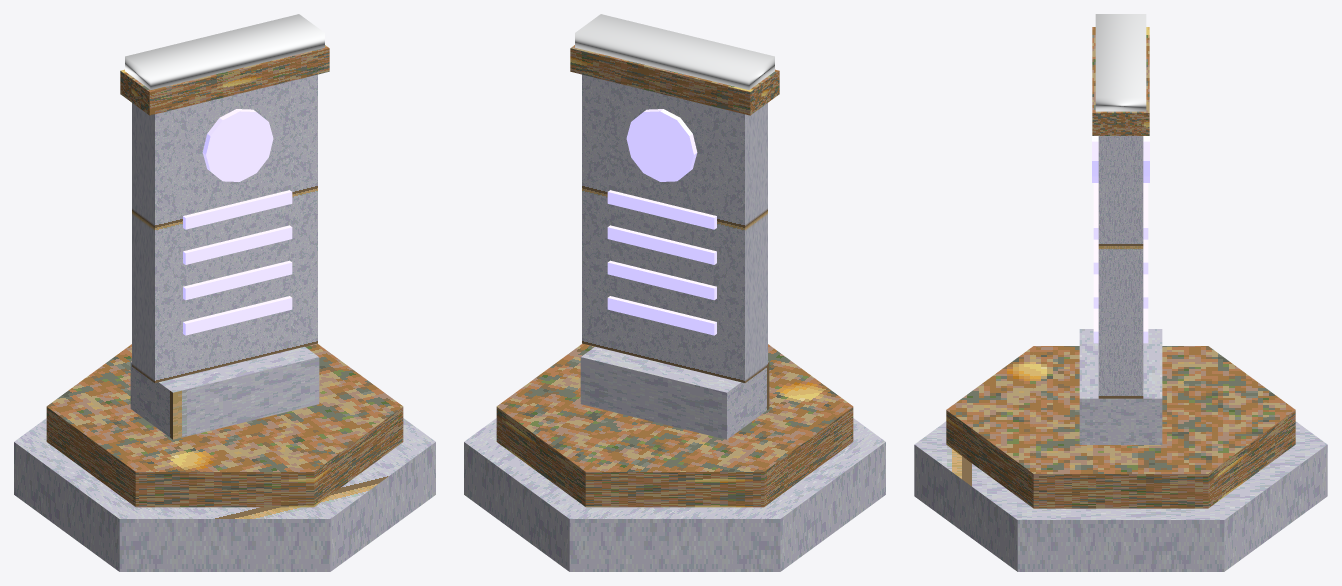
File: ficha_indice.glb
The picture shows the model from 3 angles, left to right: view 1: azimuth 30°, elevation 25°; view 2: azimuth 150°, elevation 25°; view 3: azimuth 270°, elevation 25°; orthographic projection. The views are drawn at different scales.
Parts seen in each view (by area): view 1: Ficha_Losa_Principal, Ficha_Pedestal_Bronce, Ficha_Pedestal_Base, Ficha_Soporte_Ranura, Ficha_Nieve_Remate, Ficha_Remate_Superior, Ficha_Glifo_Sello_-7, Ficha_Linea_-7_0, Ficha_Linea_-7_3, Ficha_Linea_-7_1, Ficha_Linea_-7_2; view 2: Ficha_Losa_Principal, Ficha_Pedestal_Bronce, Ficha_Pedestal_Base, Ficha_Soporte_Ranura, Ficha_Nieve_Remate, Ficha_Remate_Superior, Ficha_Glifo_Sello_7, Ficha_Linea_7_0, Ficha_Linea_7_3, Ficha_Linea_7_1, Ficha_Linea_7_2; view 3: Ficha_Pedestal_Bronce, Ficha_Pedestal_Base, Ficha_Losa_Principal, Ficha_Soporte_Ranura, Ficha_Nieve_Remate, Ficha_Remate_Superior.
Boxes of the visible parts, <box> form: Ficha_Losa_Principal: <box>132,74,317,382</box>; Ficha_Pedestal_Bronce: <box>46,343,403,507</box>; Ficha_Pedestal_Base: <box>14,418,435,571</box>; Ficha_Soporte_Ranura: <box>130,346,319,439</box>; Ficha_Nieve_Remate: <box>125,14,324,89</box>; Ficha_Remate_Superior: <box>120,45,329,115</box>; Ficha_Glifo_Sello_-7: <box>202,109,273,181</box>; Ficha_Linea_-7_0: <box>183,190,292,229</box>; Ficha_Linea_-7_3: <box>183,296,292,335</box>; Ficha_Linea_-7_1: <box>183,225,292,264</box>; Ficha_Linea_-7_2: <box>183,260,292,300</box>; Ficha_Losa_Principal: <box>582,74,767,382</box>; Ficha_Pedestal_Bronce: <box>496,343,853,507</box>; Ficha_Pedestal_Base: <box>464,418,885,571</box>; Ficha_Soporte_Ranura: <box>580,346,769,439</box>; Ficha_Nieve_Remate: <box>575,14,774,89</box>; Ficha_Remate_Superior: <box>570,45,779,115</box>; Ficha_Glifo_Sello_7: <box>626,109,697,181</box>; Ficha_Linea_7_0: <box>607,190,716,229</box>; Ficha_Linea_7_3: <box>607,296,716,335</box>; Ficha_Linea_7_1: <box>607,225,716,264</box>; Ficha_Linea_7_2: <box>607,260,716,300</box>; Ficha_Pedestal_Bronce: <box>946,346,1295,508</box>; Ficha_Pedestal_Base: <box>914,421,1327,571</box>; Ficha_Losa_Principal: <box>1098,136,1143,398</box>; Ficha_Soporte_Ranura: <box>1079,329,1162,444</box>; Ficha_Nieve_Remate: <box>1095,14,1146,111</box>; Ficha_Remate_Superior: <box>1092,27,1149,135</box>.
Size of the model in its own units: 1.13 by 1.53 by 1.3.
Materials: 4 (2 with a texture image).
